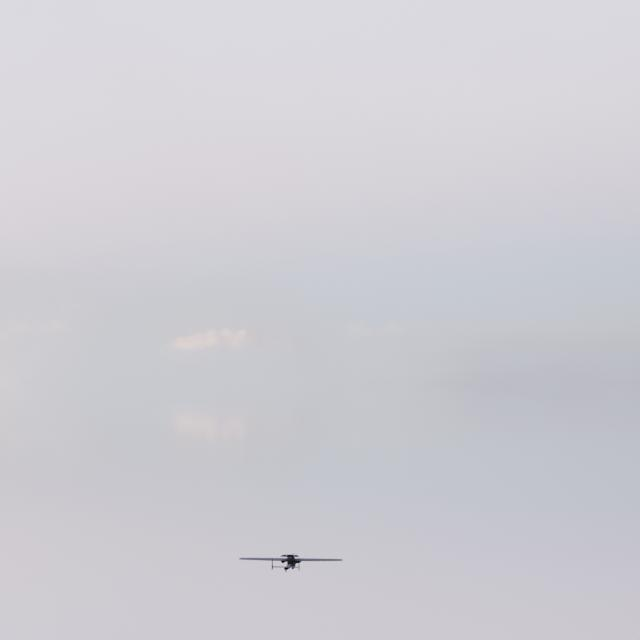Airaplan: (239, 553, 343, 572)
